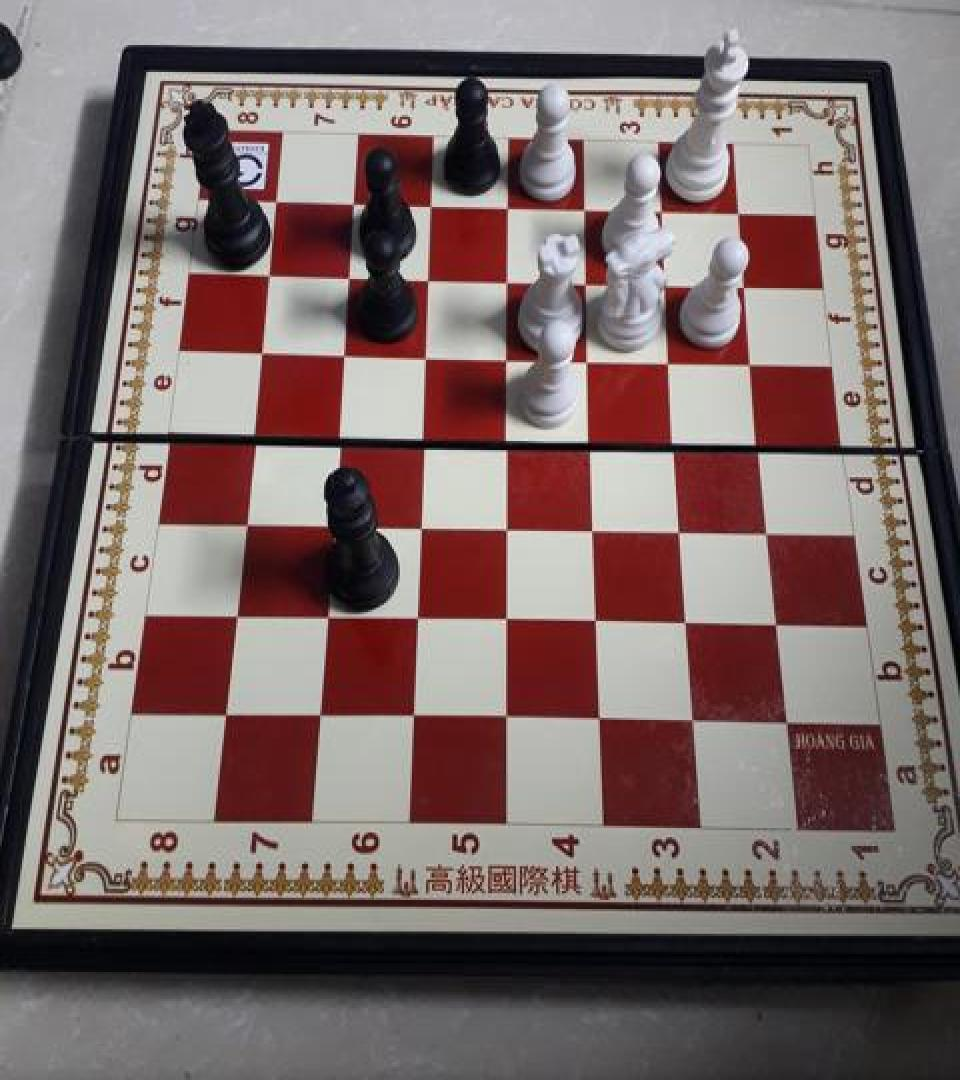xcorner: (399, 696, 431, 733), (492, 698, 524, 735), (211, 693, 243, 729), (305, 695, 337, 731), (585, 701, 617, 737), (678, 703, 710, 739), (770, 704, 802, 740), (221, 593, 253, 629), (312, 595, 344, 631), (402, 598, 434, 634), (492, 600, 524, 636), (582, 602, 614, 638), (672, 603, 704, 639), (761, 605, 793, 641), (231, 500, 263, 536), (318, 502, 350, 538), (406, 504, 438, 540), (493, 506, 525, 542), (580, 508, 612, 544), (666, 511, 698, 547), (753, 513, 785, 549), (239, 413, 271, 449), (324, 415, 356, 451), (409, 418, 441, 454), (493, 420, 525, 456), (577, 422, 609, 458), (661, 424, 693, 460), (744, 426, 776, 462), (248, 332, 280, 368), (330, 334, 362, 370), (412, 336, 444, 372), (493, 338, 525, 374), (575, 341, 607, 377), (656, 343, 688, 379), (737, 346, 769, 382), (255, 256, 287, 292), (335, 258, 367, 294), (415, 260, 447, 296), (494, 262, 526, 298), (573, 264, 605, 300), (730, 269, 762, 305), (263, 184, 295, 220), (417, 188, 449, 224), (494, 190, 526, 226), (723, 197, 755, 233), (651, 267, 683, 302), (340, 186, 372, 221), (571, 193, 603, 228), (647, 195, 679, 230)
